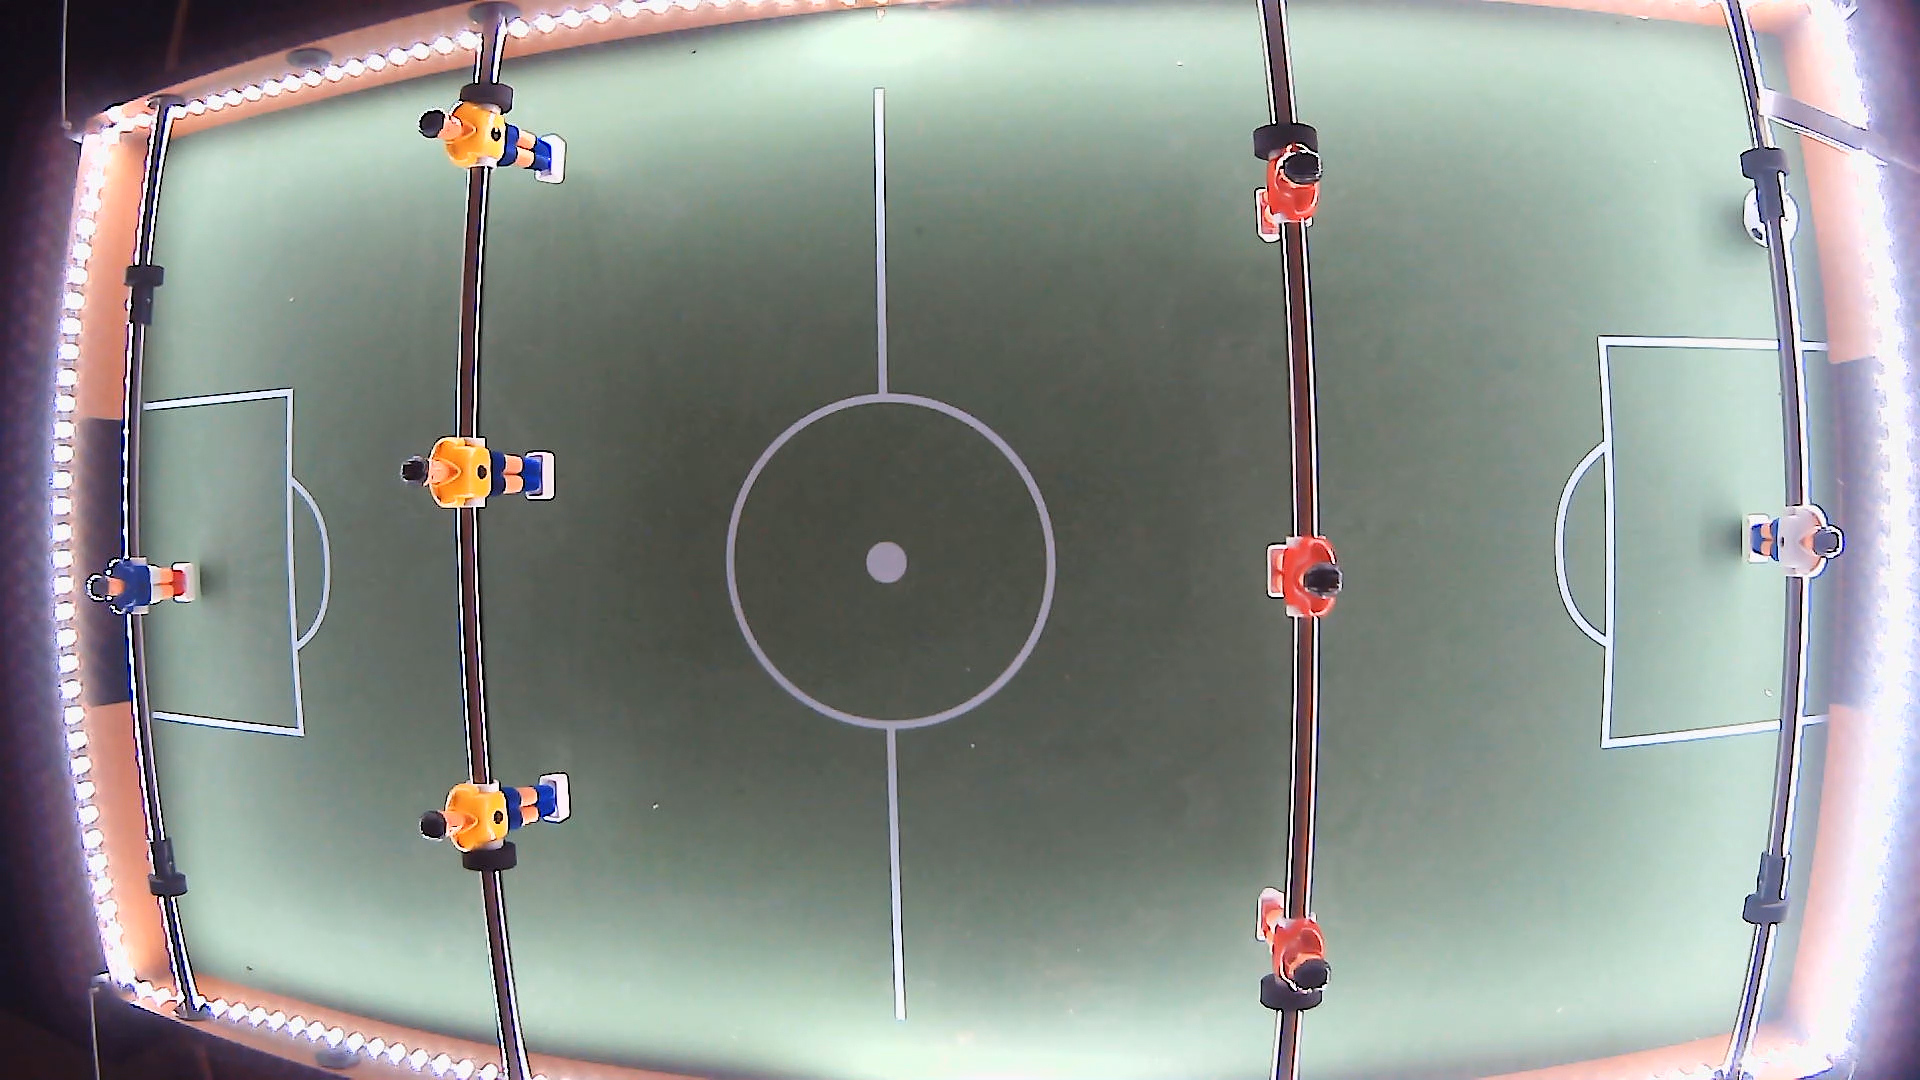Foosball: (1742, 187, 1797, 249)
